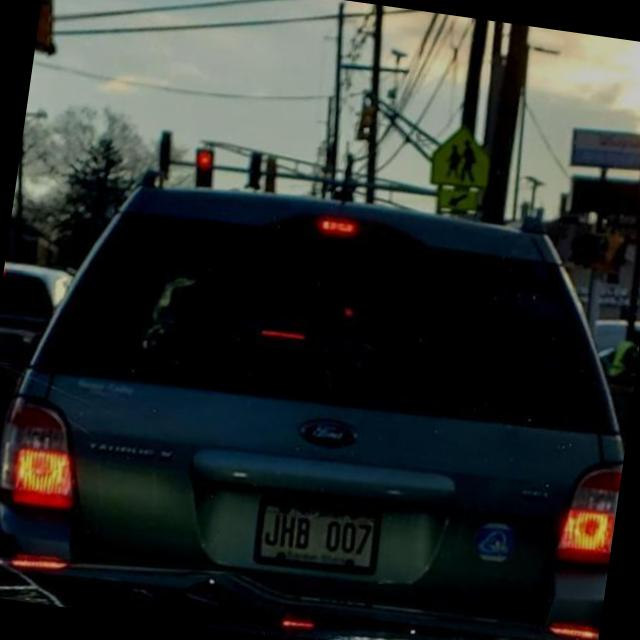LicensePlate: (251, 494, 382, 574)
